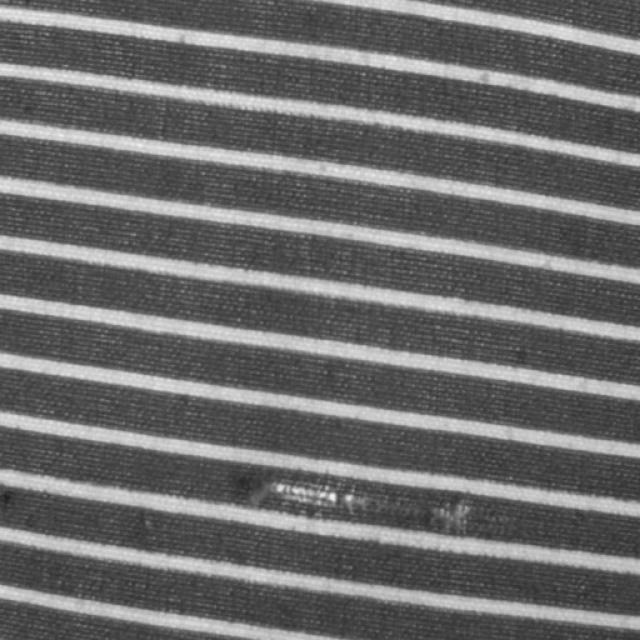Thread-Defect: (234, 466, 472, 535)
